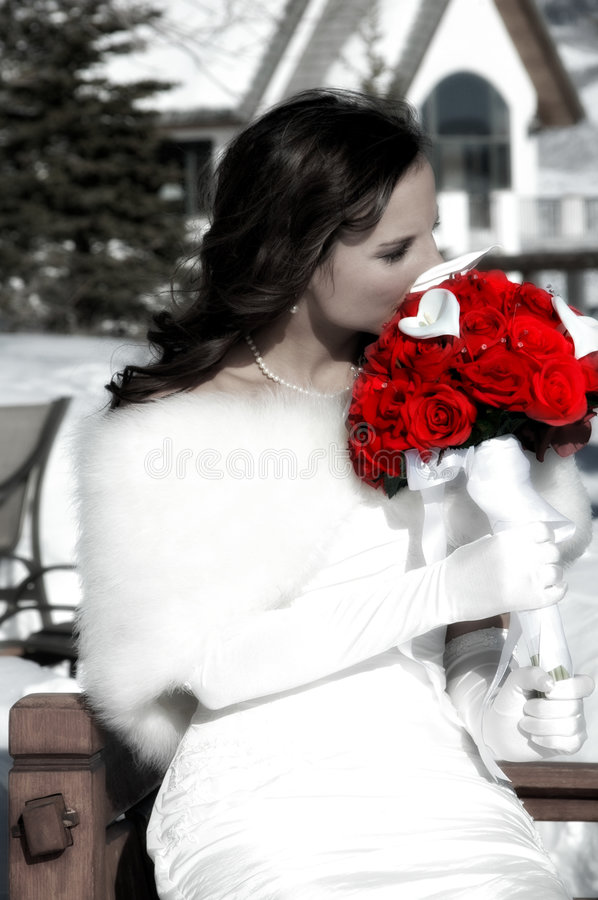RedRose: (520, 369, 592, 441), (399, 388, 480, 449), (460, 348, 519, 408), (341, 426, 402, 484), (502, 323, 583, 363), (514, 276, 569, 329), (460, 303, 514, 353), (407, 336, 457, 384), (452, 265, 512, 303), (359, 328, 405, 373), (339, 374, 379, 423), (379, 379, 417, 423), (390, 286, 419, 316)
